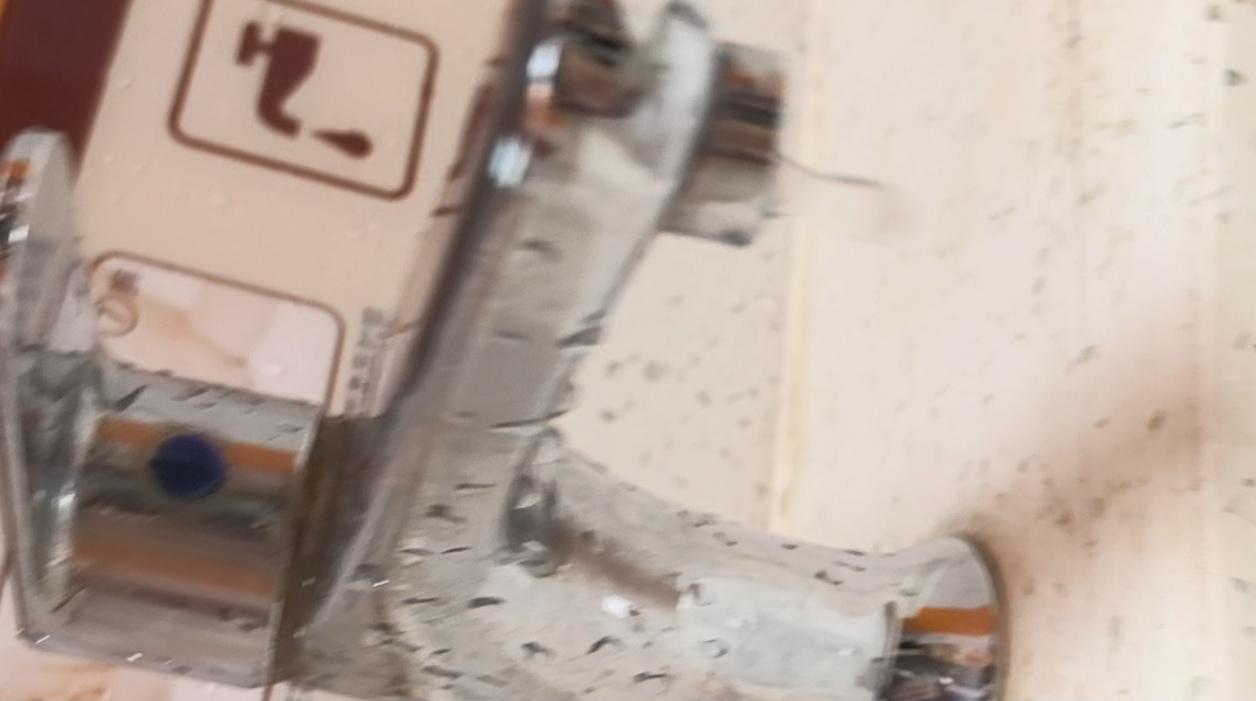water drop: (746, 155, 910, 246)
